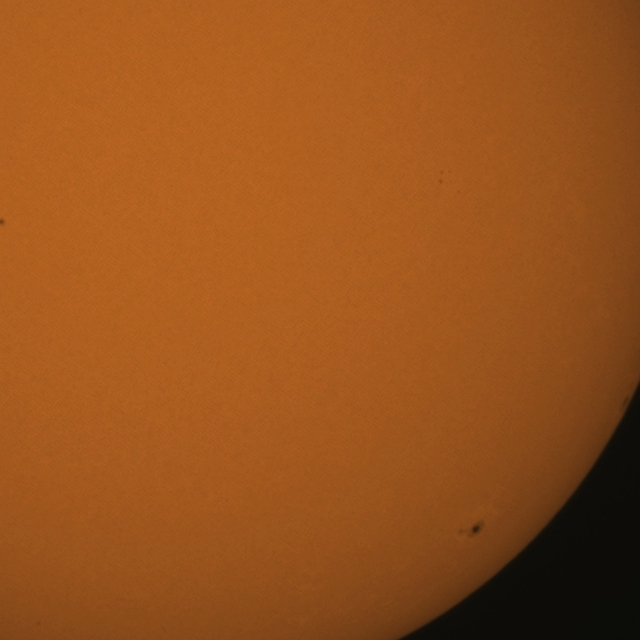sunspot: (458, 520, 485, 540), (438, 169, 454, 187), (622, 395, 630, 408), (0, 216, 6, 228)
